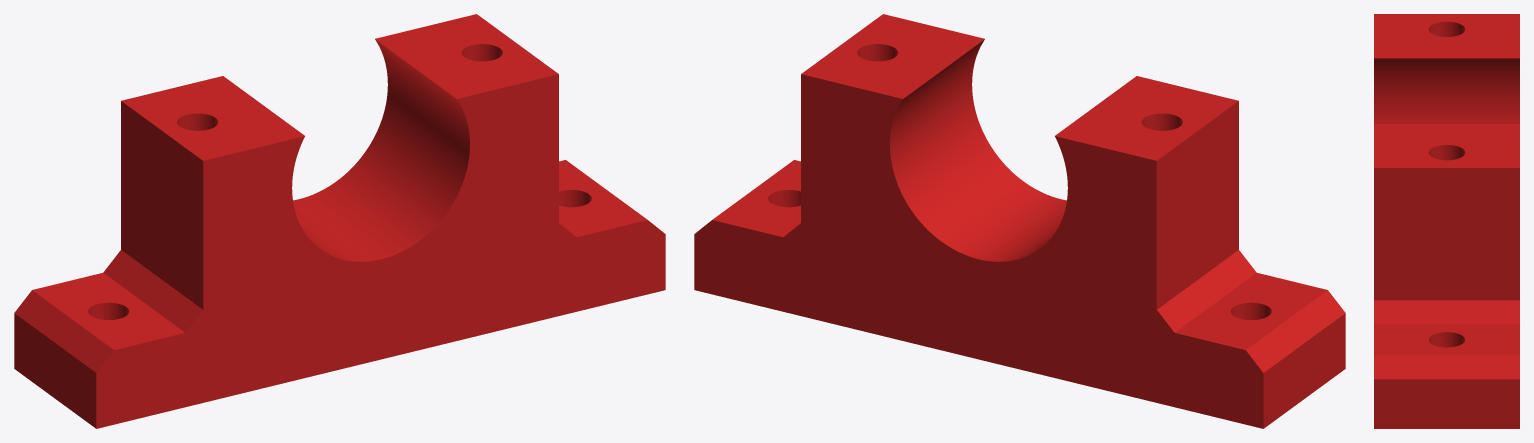
The model's file is 2_colored.obj.
3 views of the same model, side by side, from view 1: azimuth 30°, elevation 25°; view 2: azimuth 150°, elevation 25°; view 3: azimuth 270°, elevation 25° (orthographic). The views are drawn at different scales.
Size of the model in its own units: 0.16 by 0.065 by 0.04.
